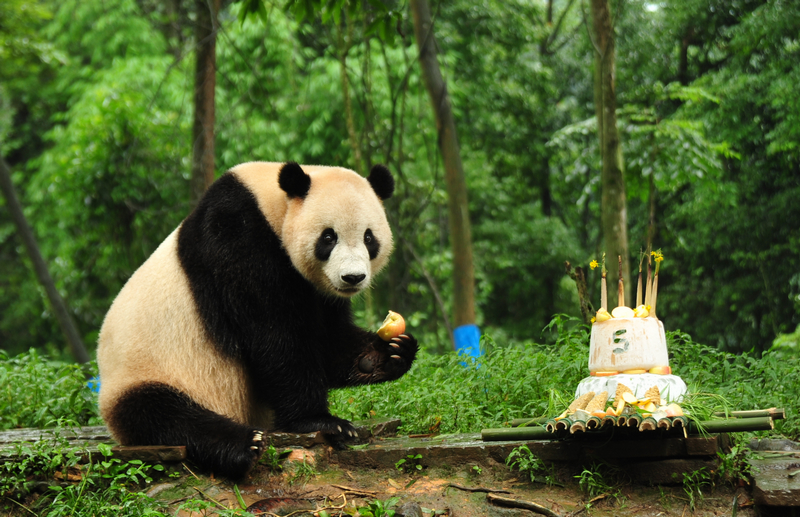panda: (93, 157, 417, 483)
